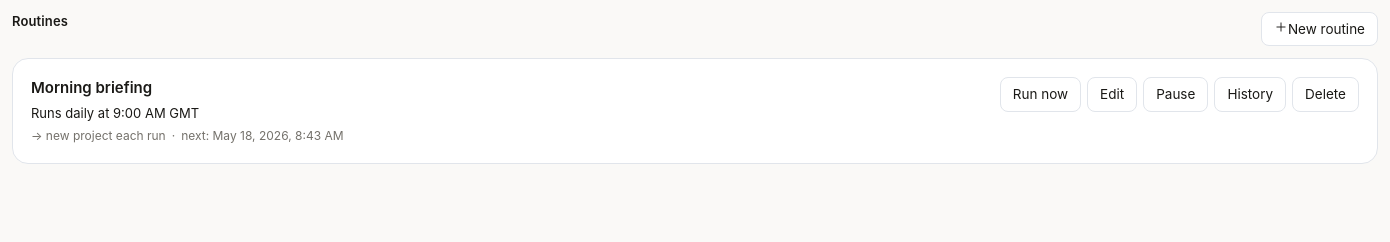
Test case: RoutinesSection › shows the empty history state when a routine has never run
Click the button "History". click: (1250, 94)
box: [1214, 77, 1286, 112]
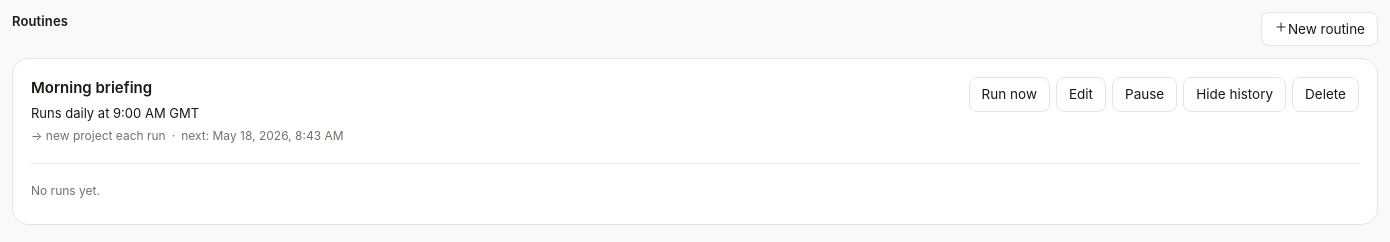
Expected: the text "No runs yet." is shown, [31, 183, 100, 198]
